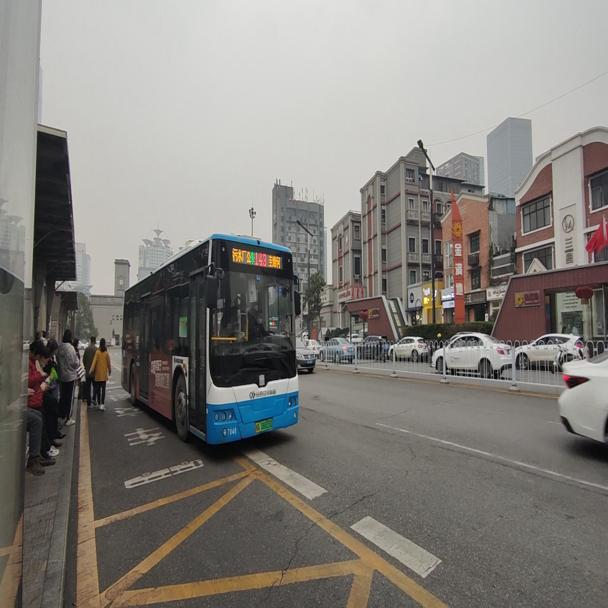bus: (120, 231, 301, 445)
screen: (253, 247, 268, 267)
